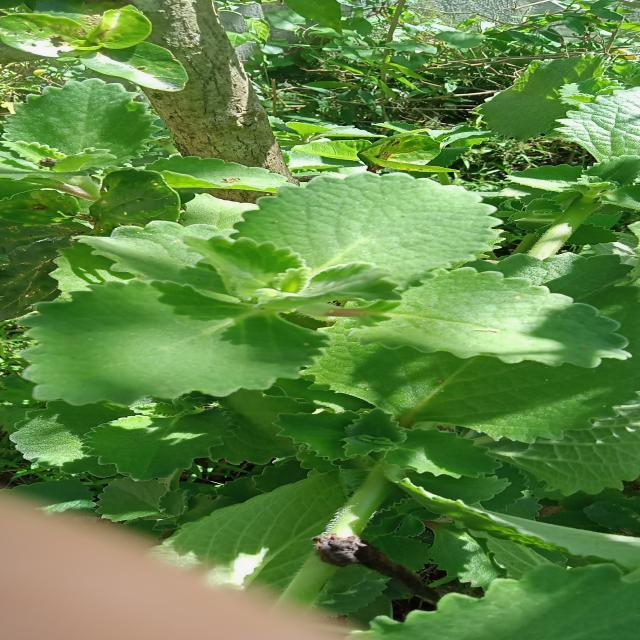Oregano: (15, 277, 342, 417), (227, 160, 523, 305), (8, 74, 189, 181)
